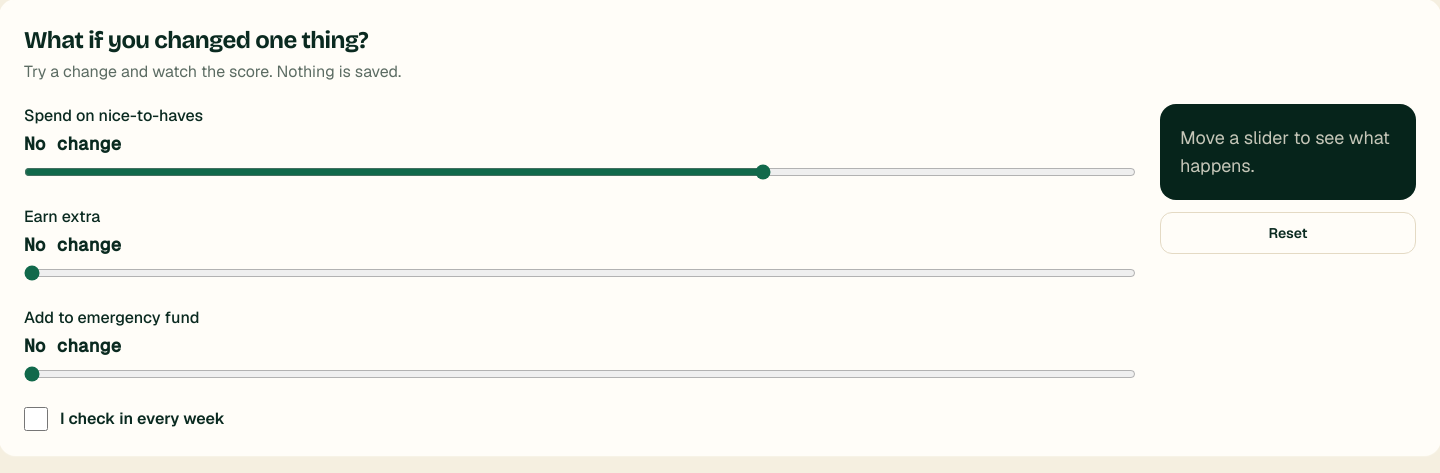
Test case: WhatIf panel › "Make this my goal" (SG-01, SG-02) › says so, instead of creating a copy, when the goal already exists
Set the slider labelled "Spend on nice-to-haves" to "-5000" at (658, 172), box [24, 166, 1136, 178]
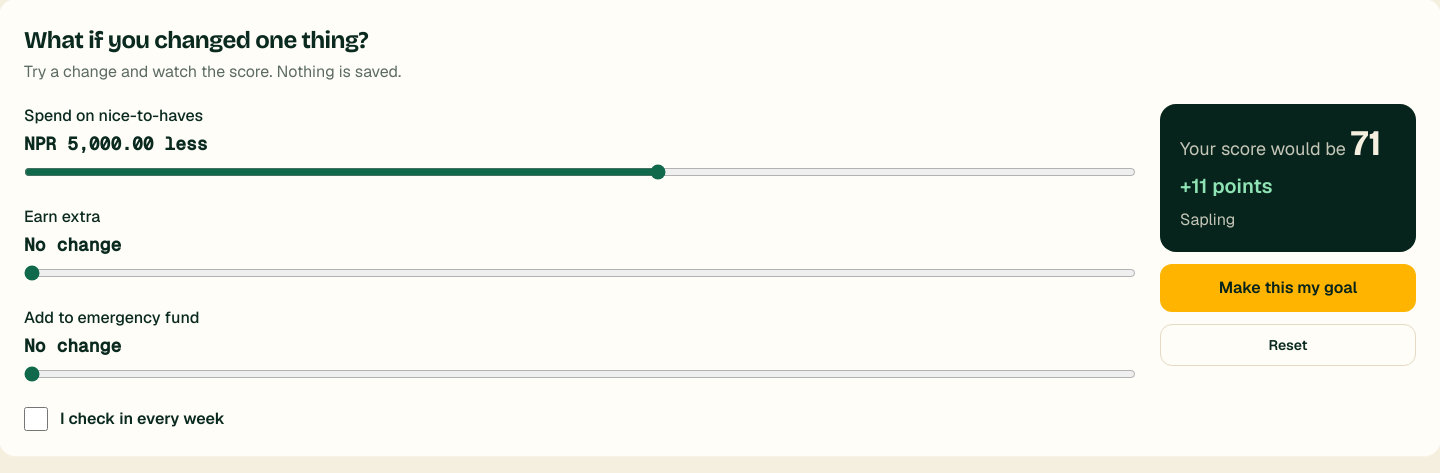
Click the button "Make this my goal" at (1288, 288), box [1160, 264, 1416, 312]
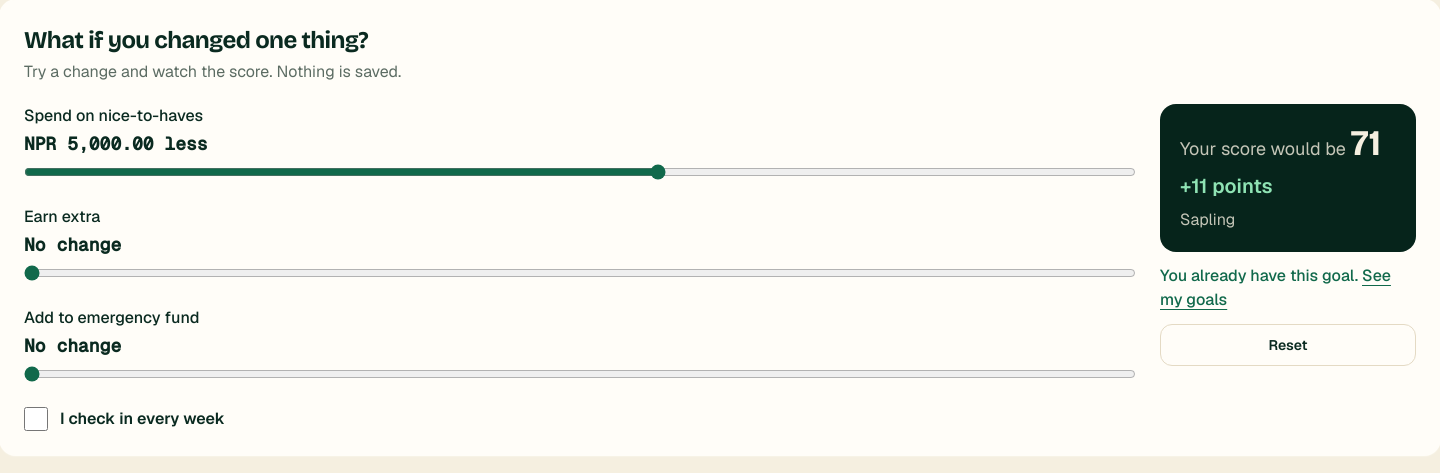
Result: the text "You already have this goal. See my goals" is shown at [1160, 264, 1416, 312]
